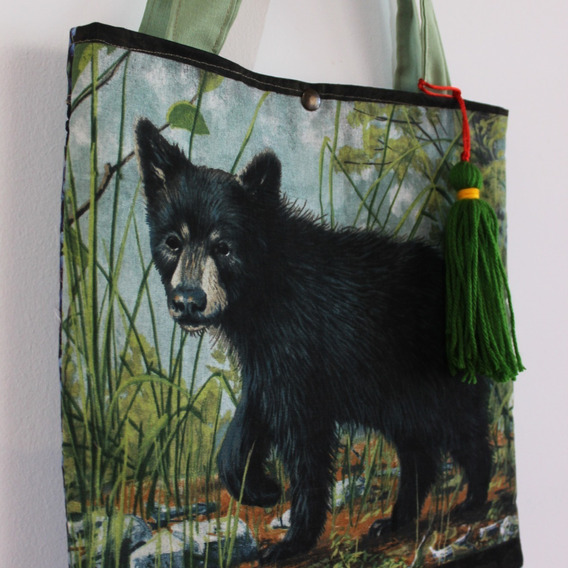cartera: (59, 1, 528, 568)
